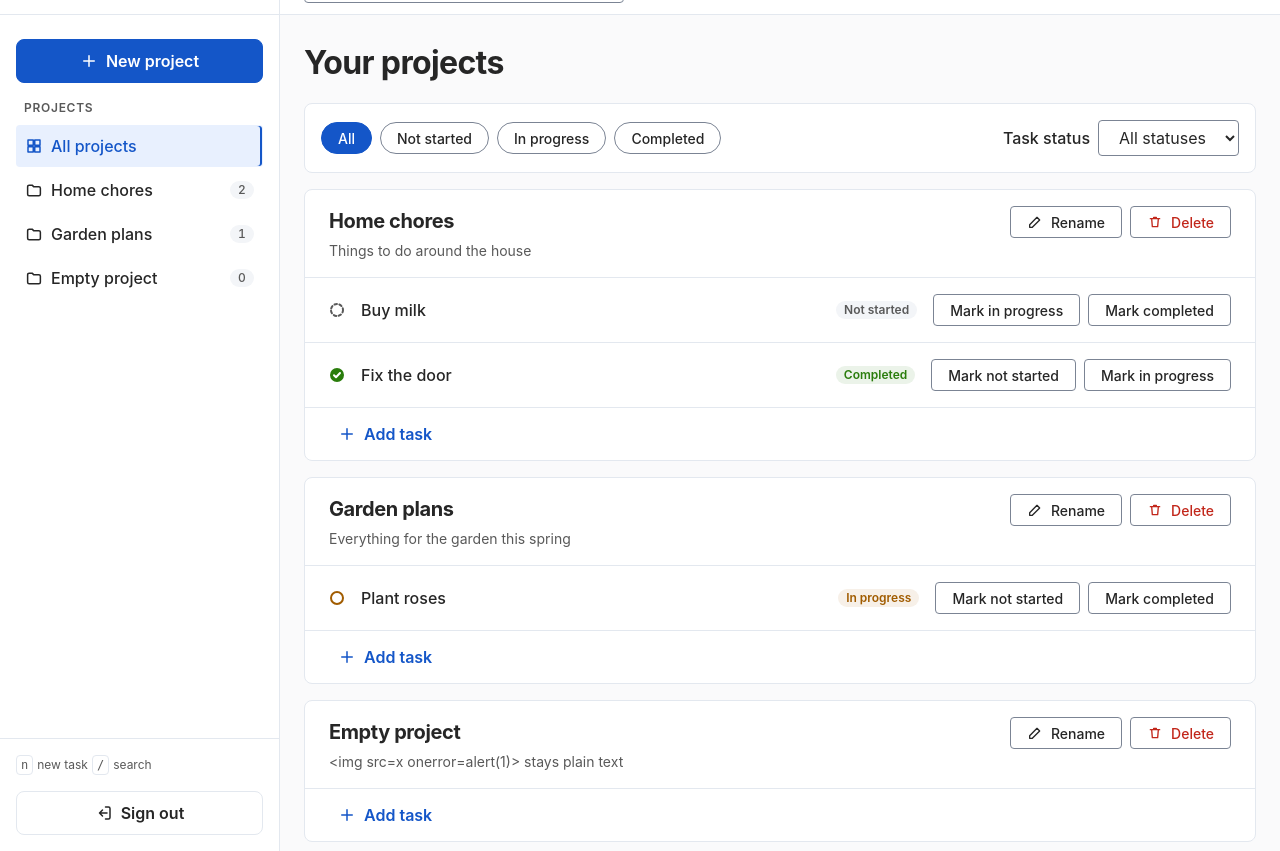
Test: Dashboard › adding a task with a name and description shows it as not started
Click the 3rd button "Add task" at (385, 815), box [321, 797, 449, 833]
(page scrolled)
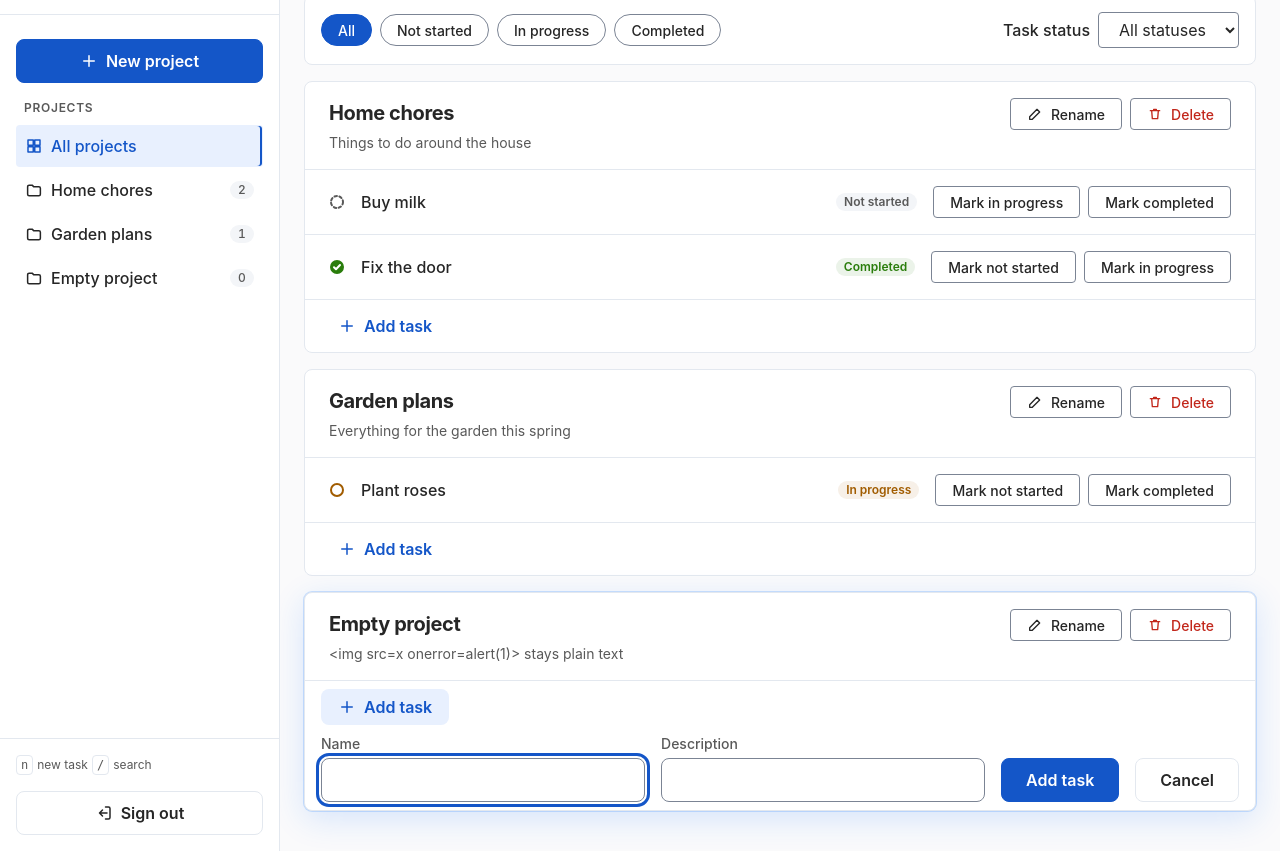
Type "Water plants" into the field labelled "Name" at (483, 780), box [321, 758, 645, 802]
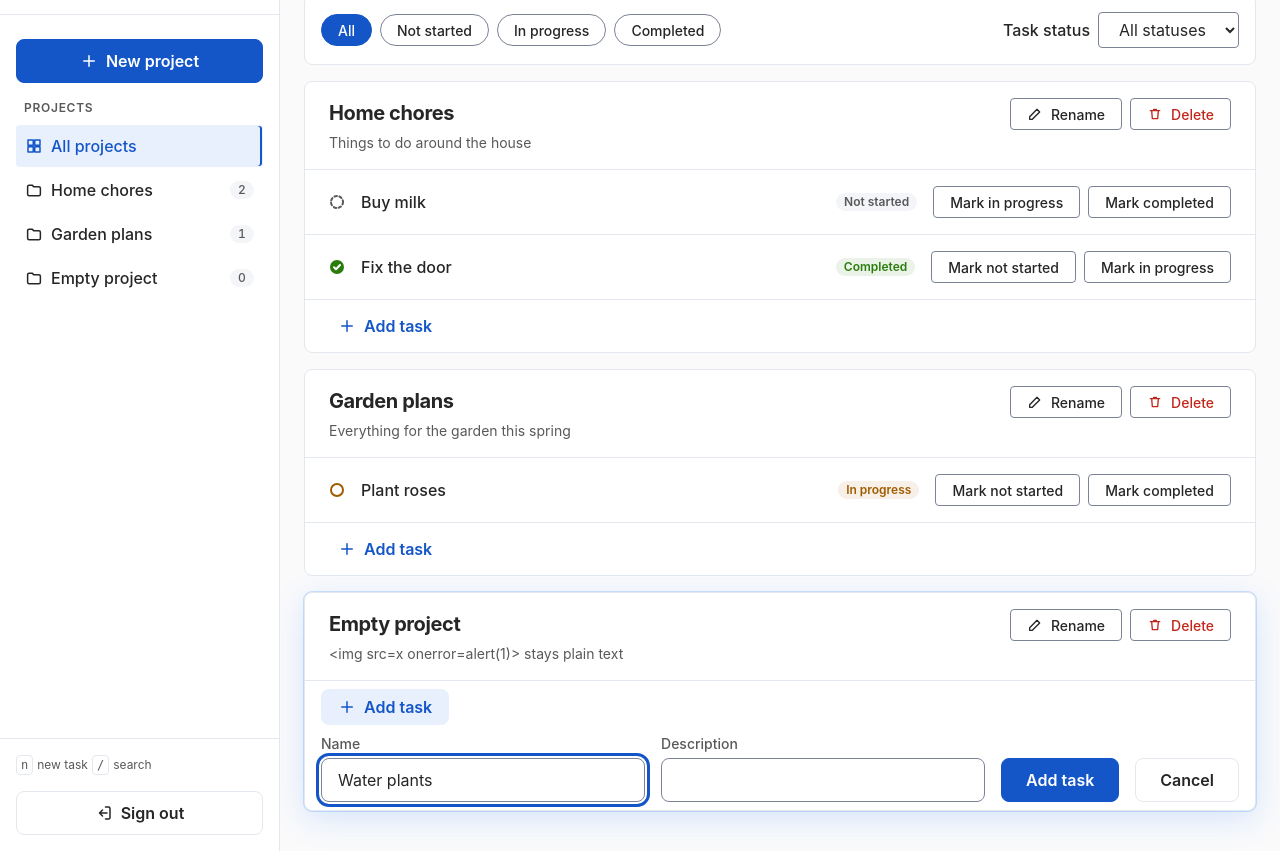
Type "Every other morning" into the field labelled "Description" at (823, 780), box [661, 758, 985, 802]
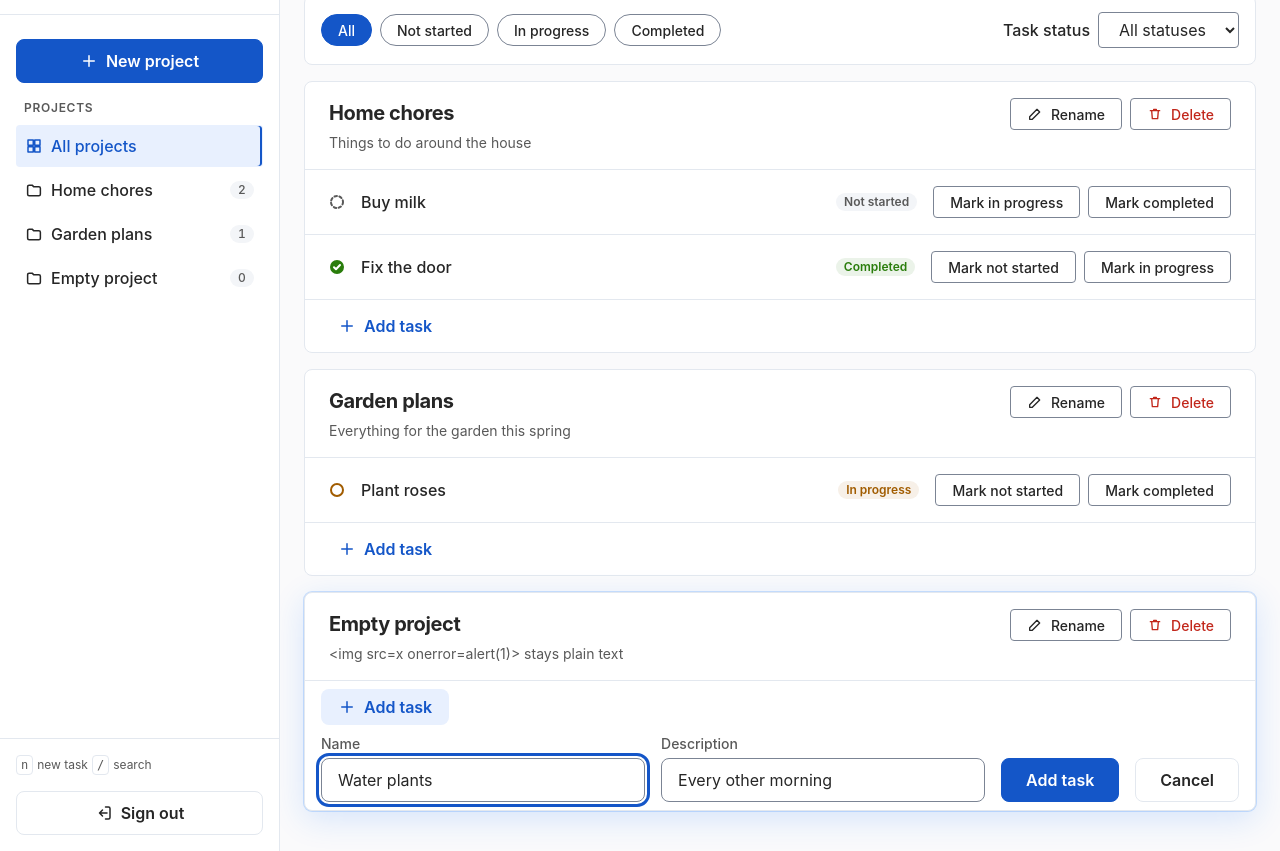
Click the 4th button "Add task" at (1060, 780), box [1001, 758, 1119, 802]
(page scrolled)
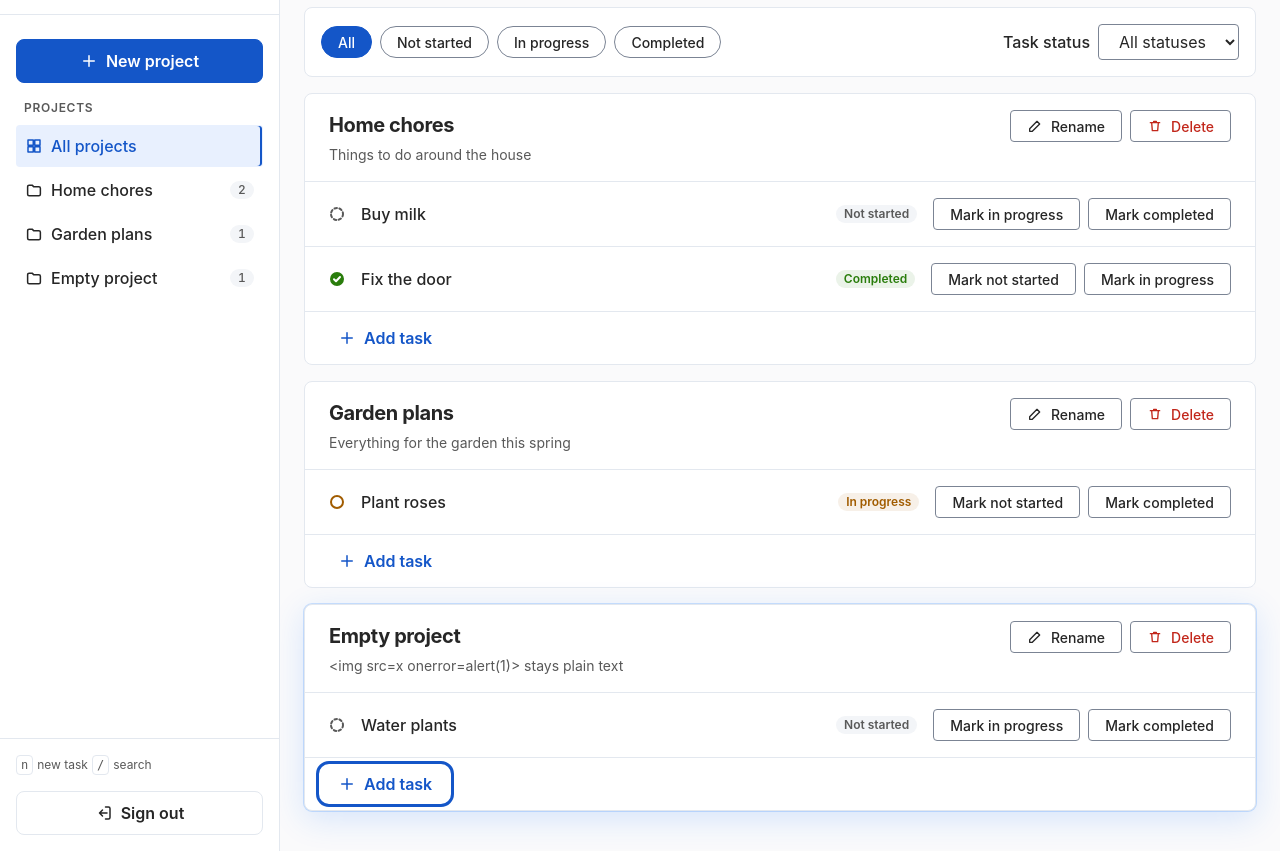
Check: the text "Not started" in the row of "Water plants" is shown, box [844, 717, 909, 732]
